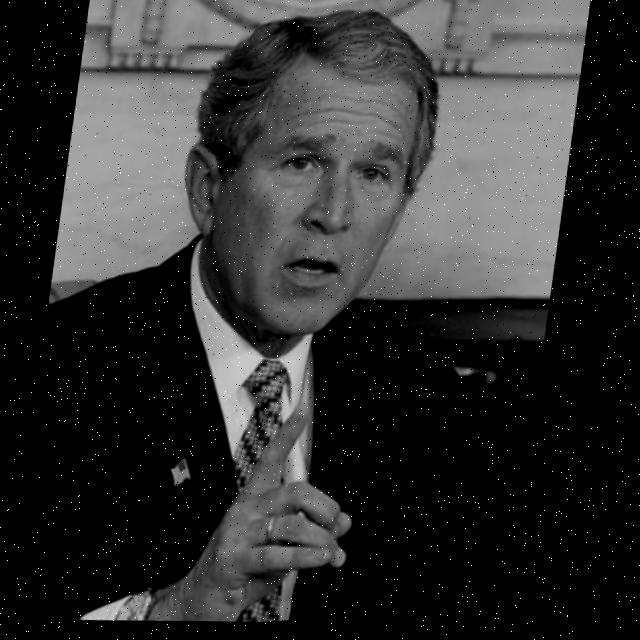face: (160, 65, 437, 357)
